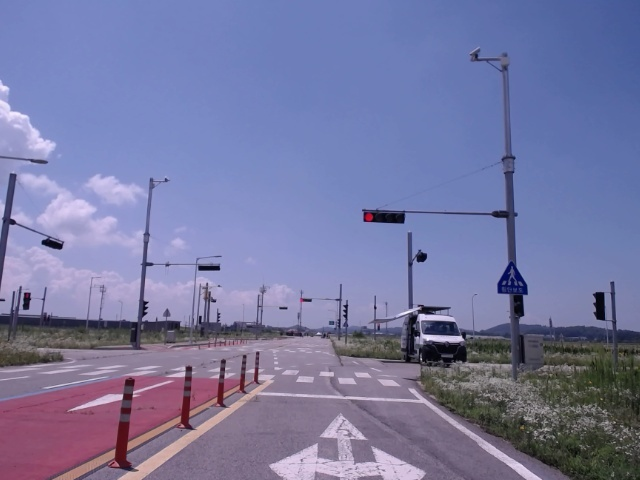red_4: (364, 211, 404, 223)
